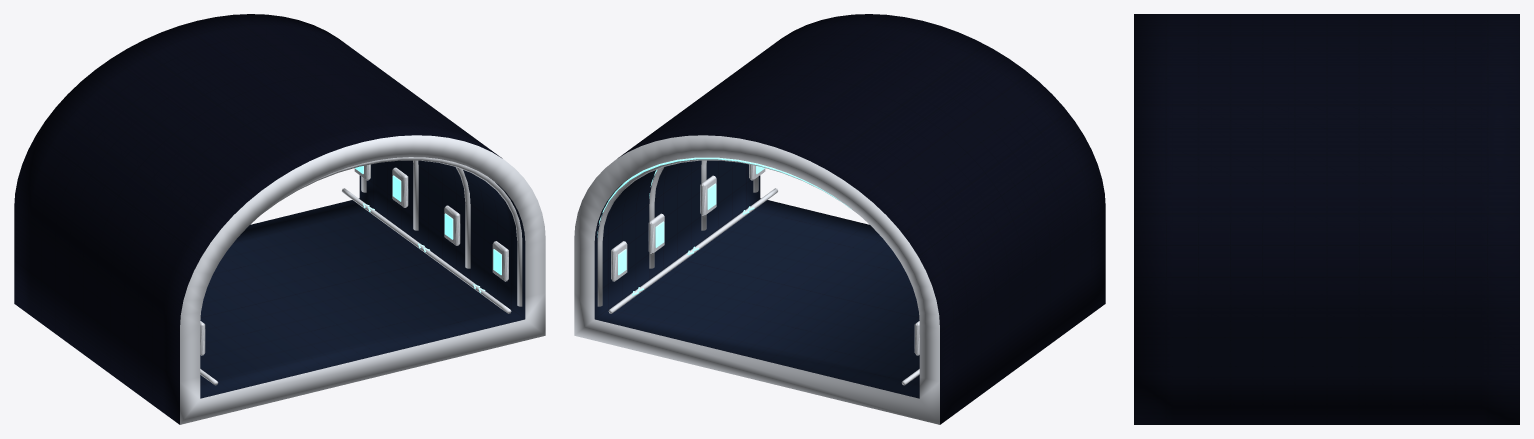
Rendered from straight_12m_lod1.glb.
3 views of the same model, side by side, from view 1: azimuth 30°, elevation 25°; view 2: azimuth 150°, elevation 25°; view 3: azimuth 270°, elevation 25° (orthographic). The views are drawn at different scales.
Visible parts, largest first — view 1: TunnelGeometry.001; view 2: TunnelGeometry.001; view 3: TunnelGeometry.001.
Boxes of the visible parts, left/top/right/bottom form: TunnelGeometry.001: left=14, top=14, right=545, bottom=424; TunnelGeometry.001: left=574, top=14, right=1105, bottom=424; TunnelGeometry.001: left=1134, top=14, right=1519, bottom=424.
Size of the model in its own units: 15.3 by 9.52 by 12.
Materials: 4 (2 with a texture image).
